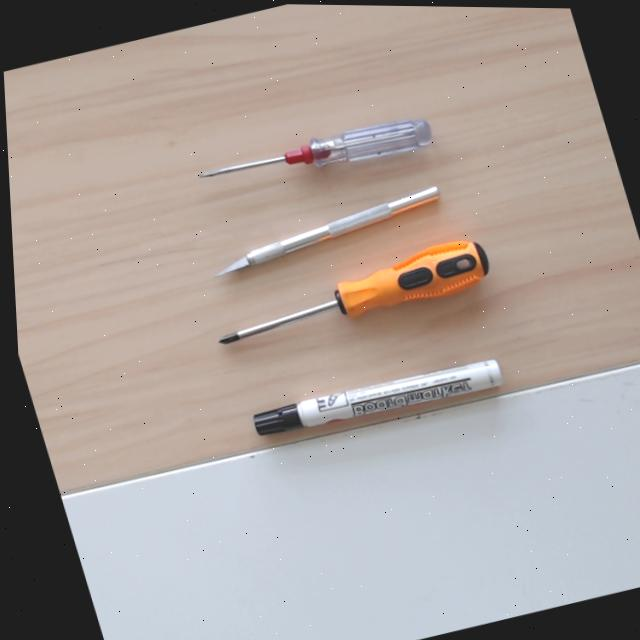Cutter-Kecil: (206, 181, 441, 282)
Marker-Pen: (248, 353, 503, 437)
Obeng-Besar: (208, 233, 492, 348)
Obeng-Kecil: (197, 113, 434, 181)
